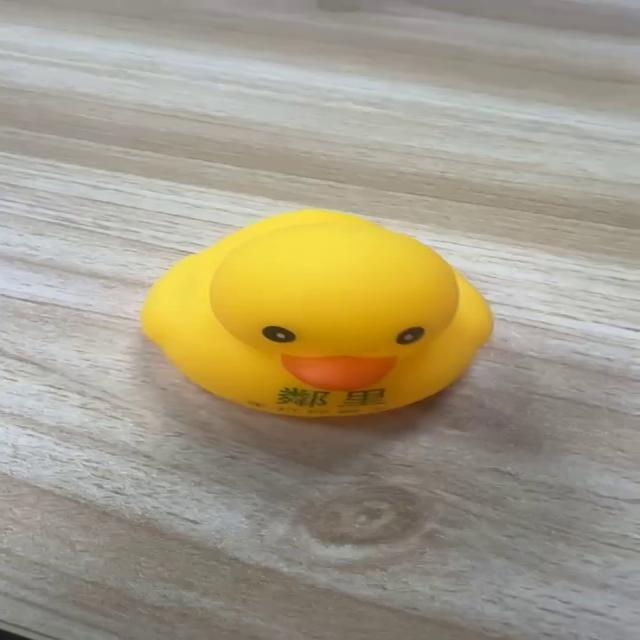yellow_duck: (138, 207, 494, 419)
